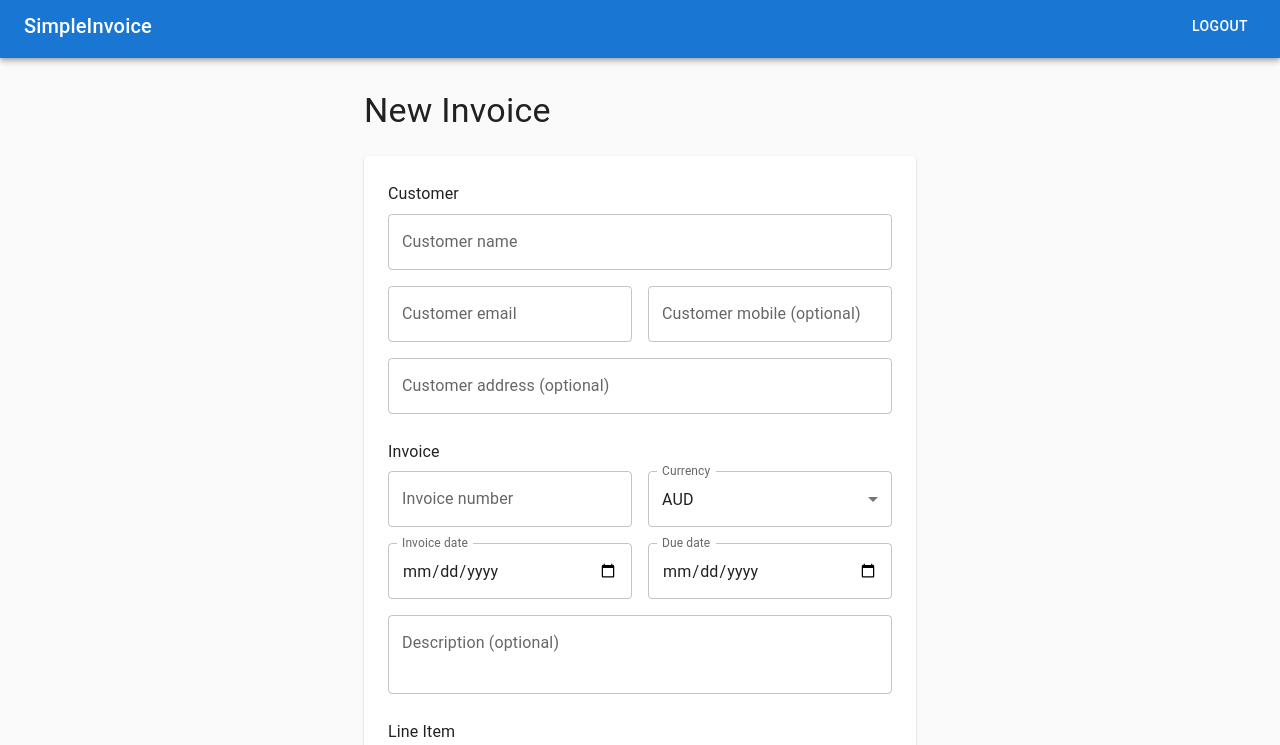
CreateInvoicePage › rejects a due date before the invoice date, client-side, mirroring the backend rule
Type "Jane Doe" into the field labelled "Customer name" at [640, 242], box [388, 214, 892, 270]
Type "jane@example.com" into the field labelled "Customer email" at [510, 314], box [388, 286, 632, 342]
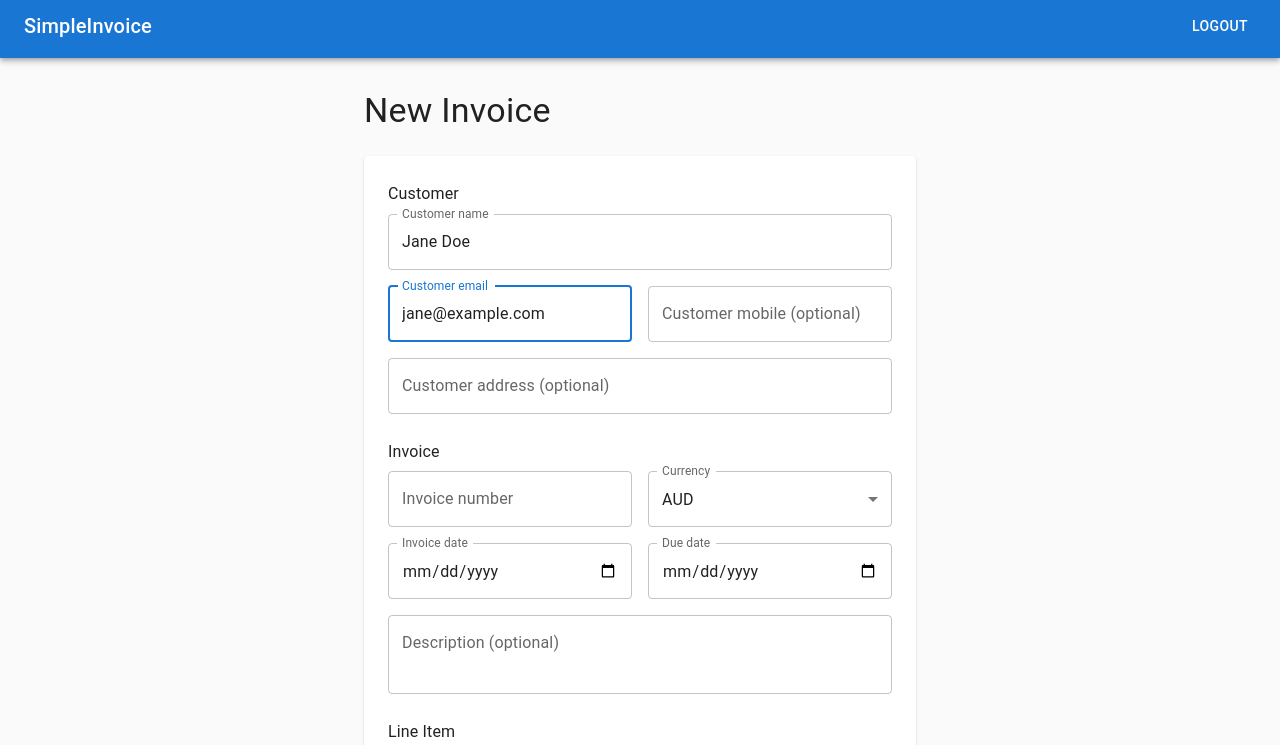
Type "IV-100" into the field labelled "Invoice number" at [510, 499], box [388, 471, 632, 527]
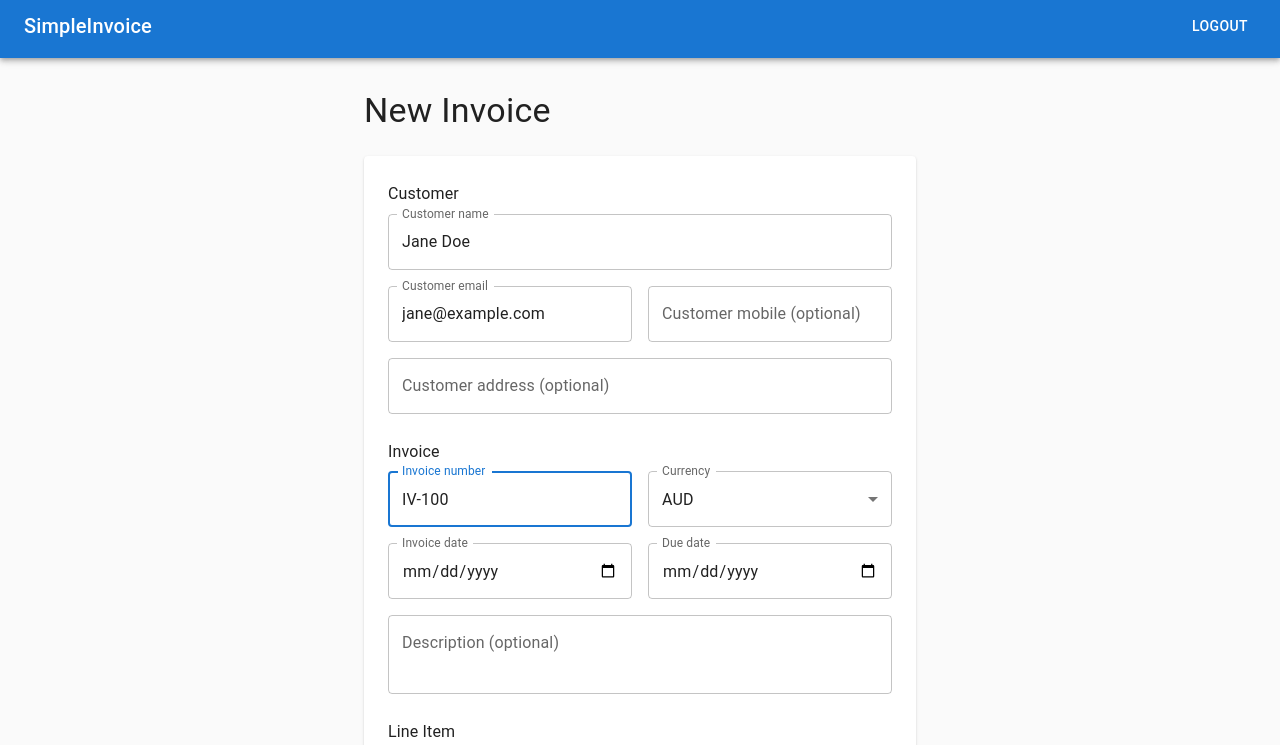
Type "2026-06-10" into the date field labelled "Invoice date" at [510, 571], box [388, 543, 632, 599]
Type "2026-06-01" into the date field labelled "Due date" at [770, 571], box [648, 543, 892, 599]
(page scrolled)
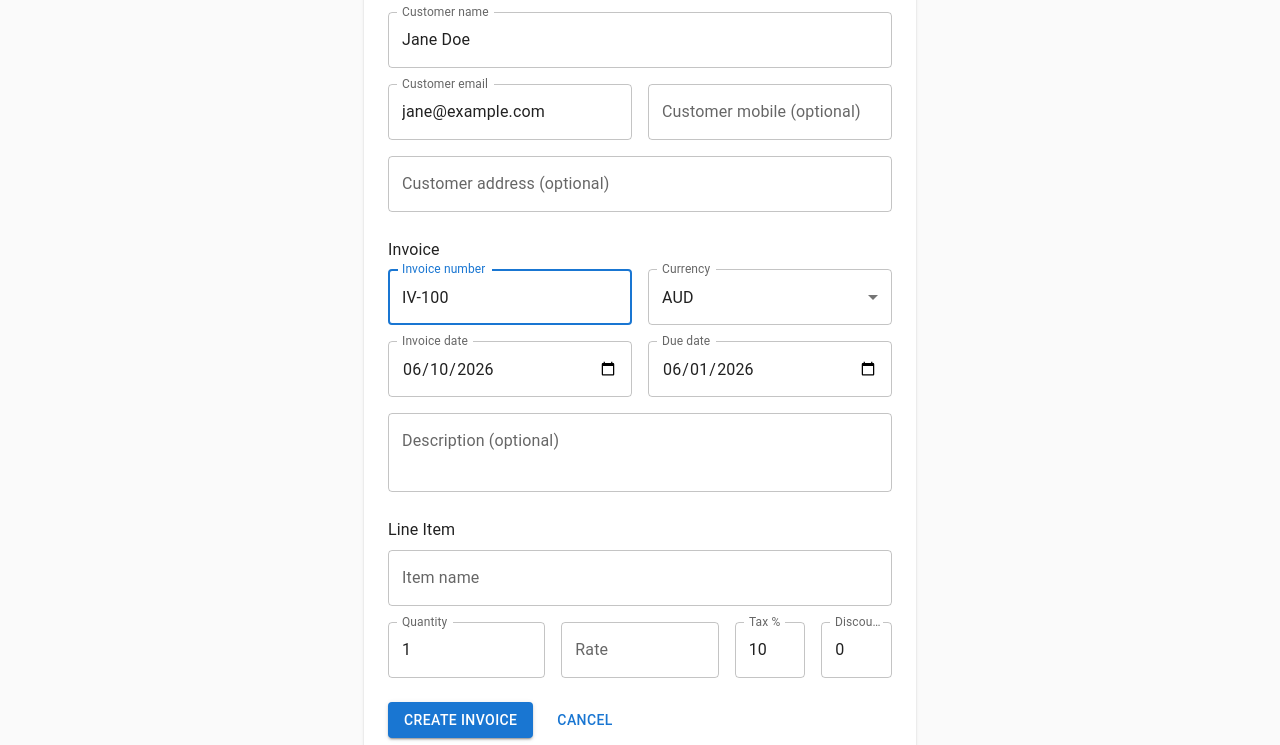
Type "Widget" into the field labelled "Item name" at [640, 578], box [388, 550, 892, 606]
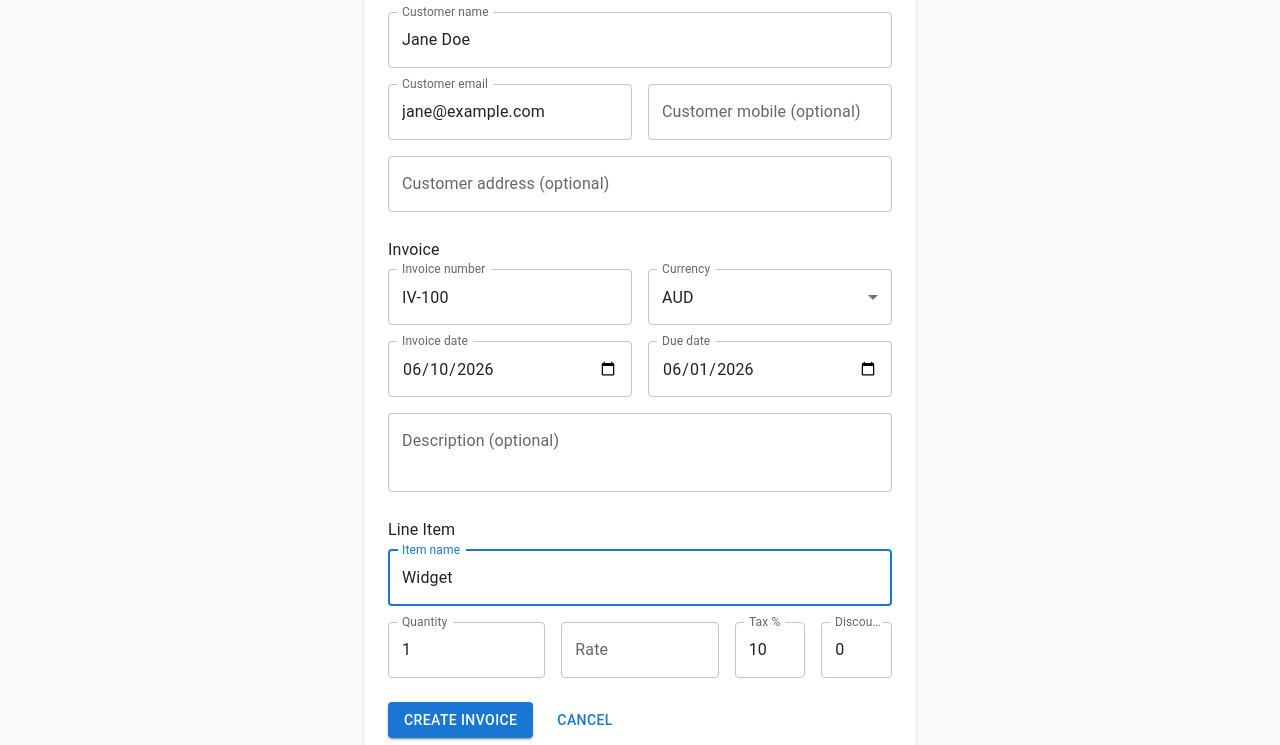
Type "50" into the number field labelled "Rate" at [640, 650], box [561, 622, 719, 678]
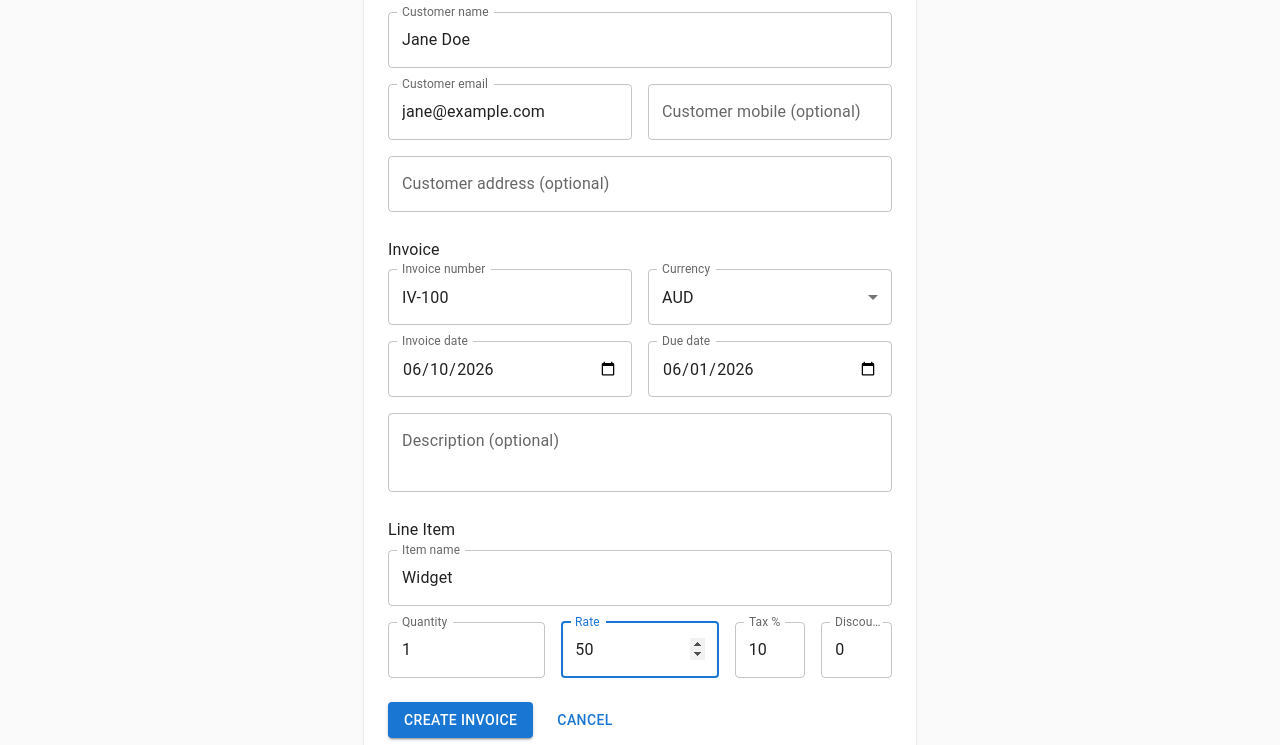
Click the button "Create Invoice" at [461, 720], box [388, 702, 533, 738]
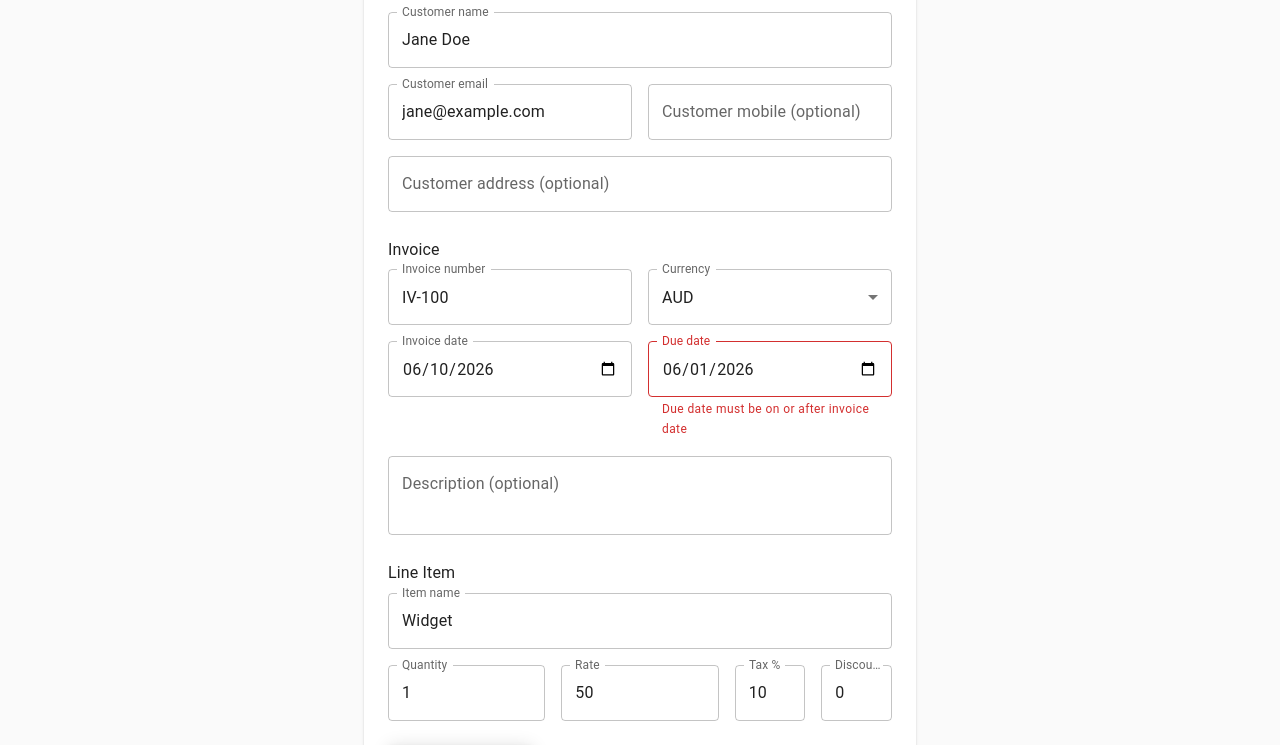
Now the text "Due date must be on or after invoice date" is shown, box [662, 400, 878, 440]
